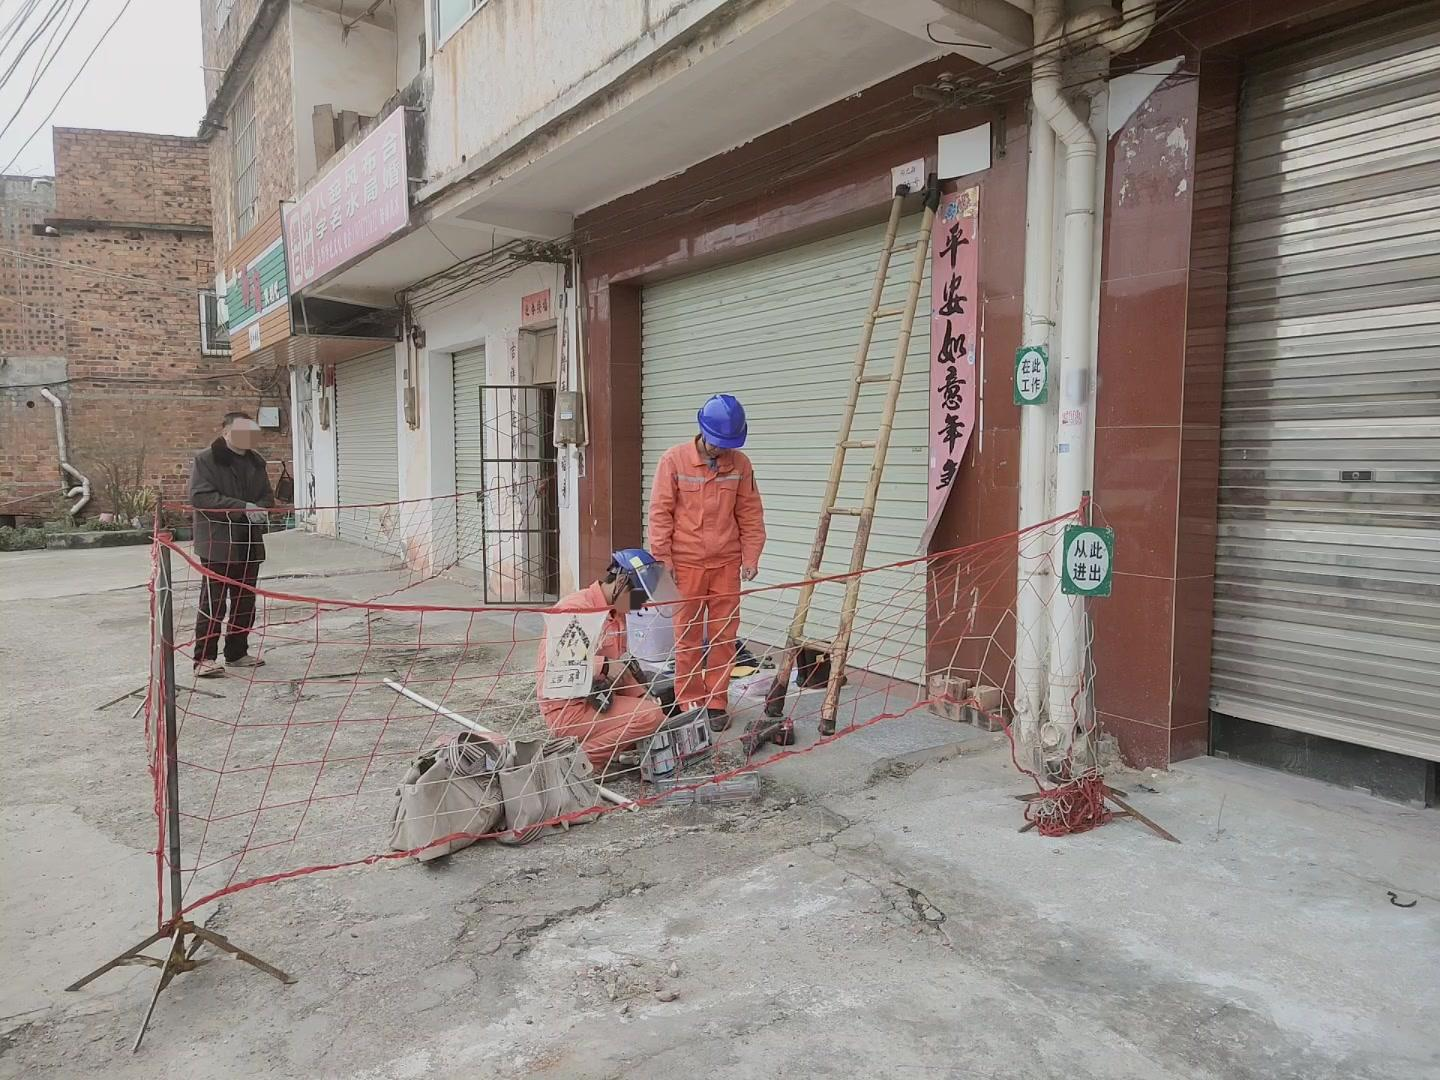halt: (698, 398, 752, 455)
inear: (611, 575, 638, 608)
unhalt: (220, 417, 260, 453)
